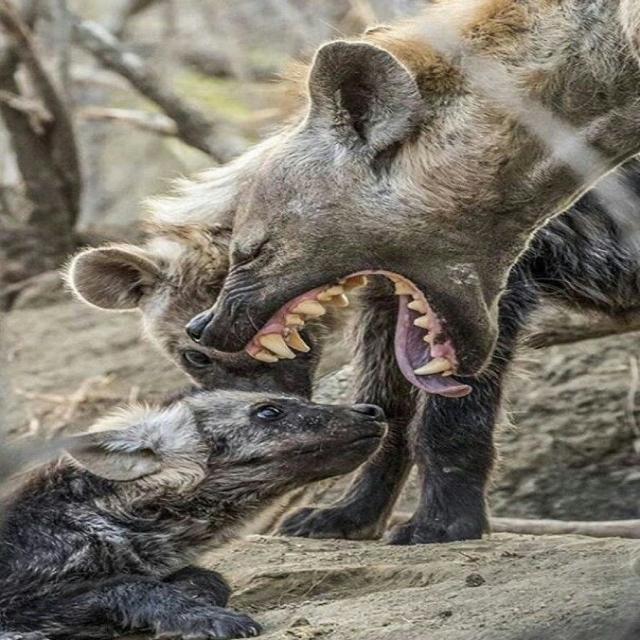Carnivorous: (143, 0, 640, 545), (0, 390, 389, 640), (68, 226, 313, 405)
